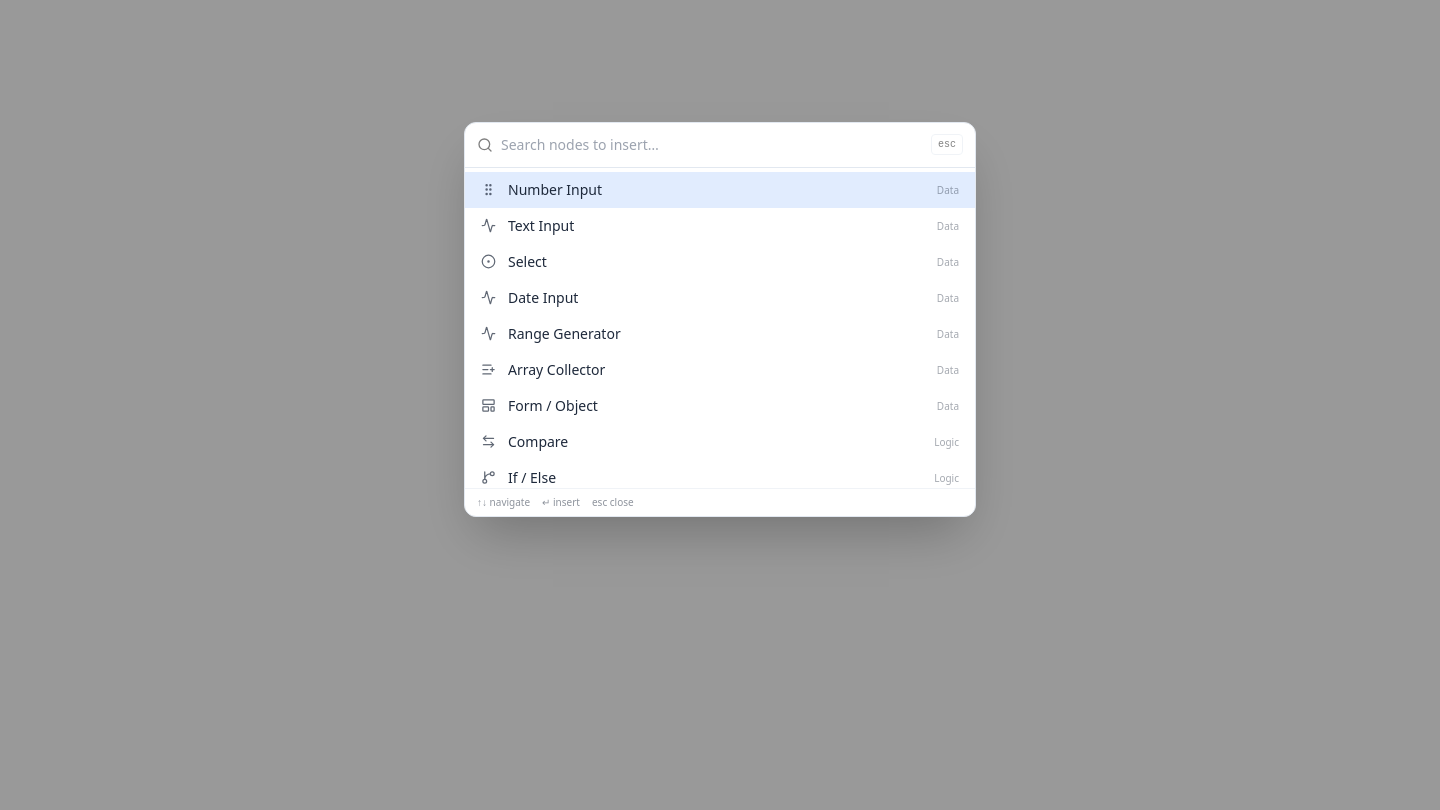
Test: CommandPalette › lists nodes and filters by the search query
Type "multiply" into the field with placeholder "Search nodes to insert…" at (712, 144), box 501,122 -> 923,166
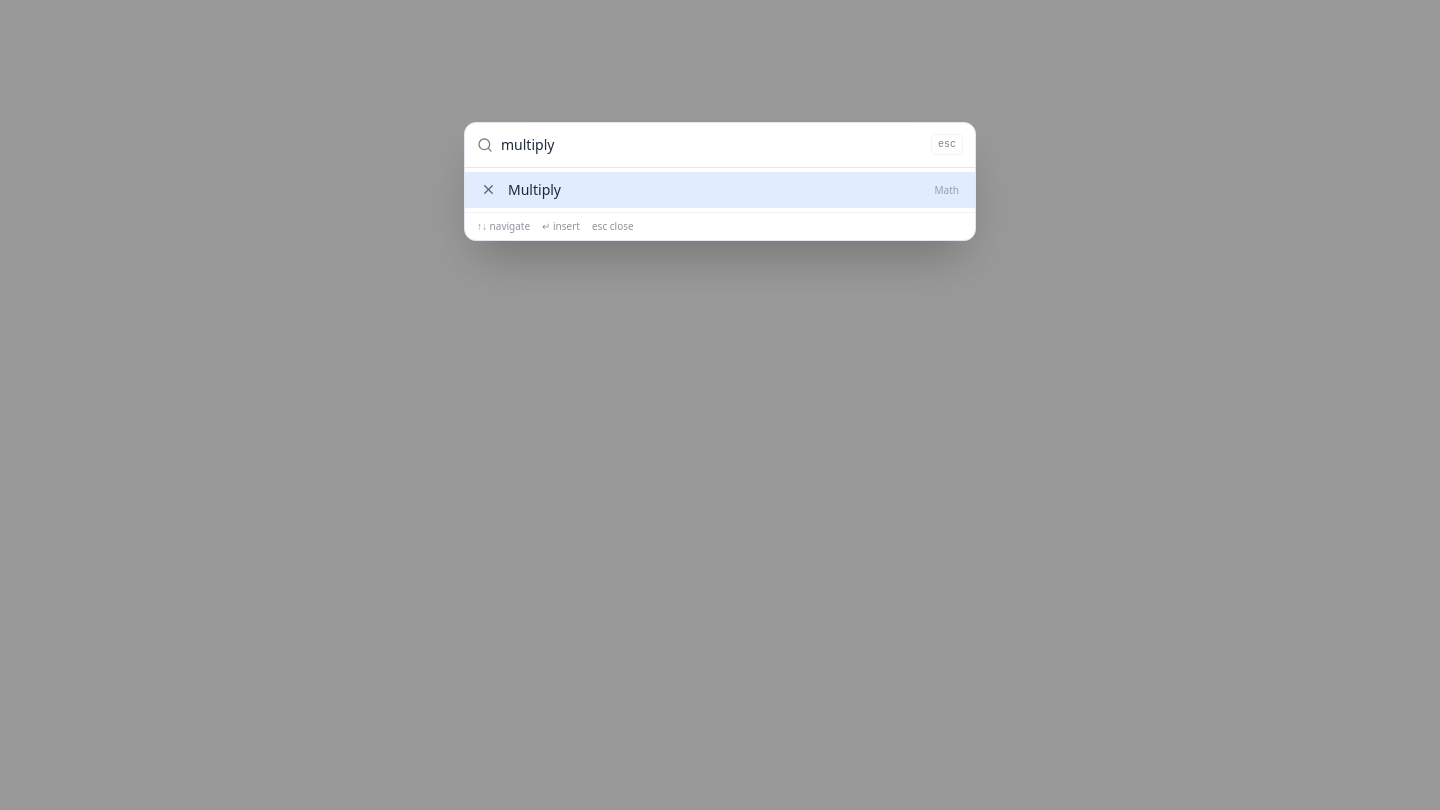
Check: the text "Multiply" is shown, box 508,180 -> 561,198
